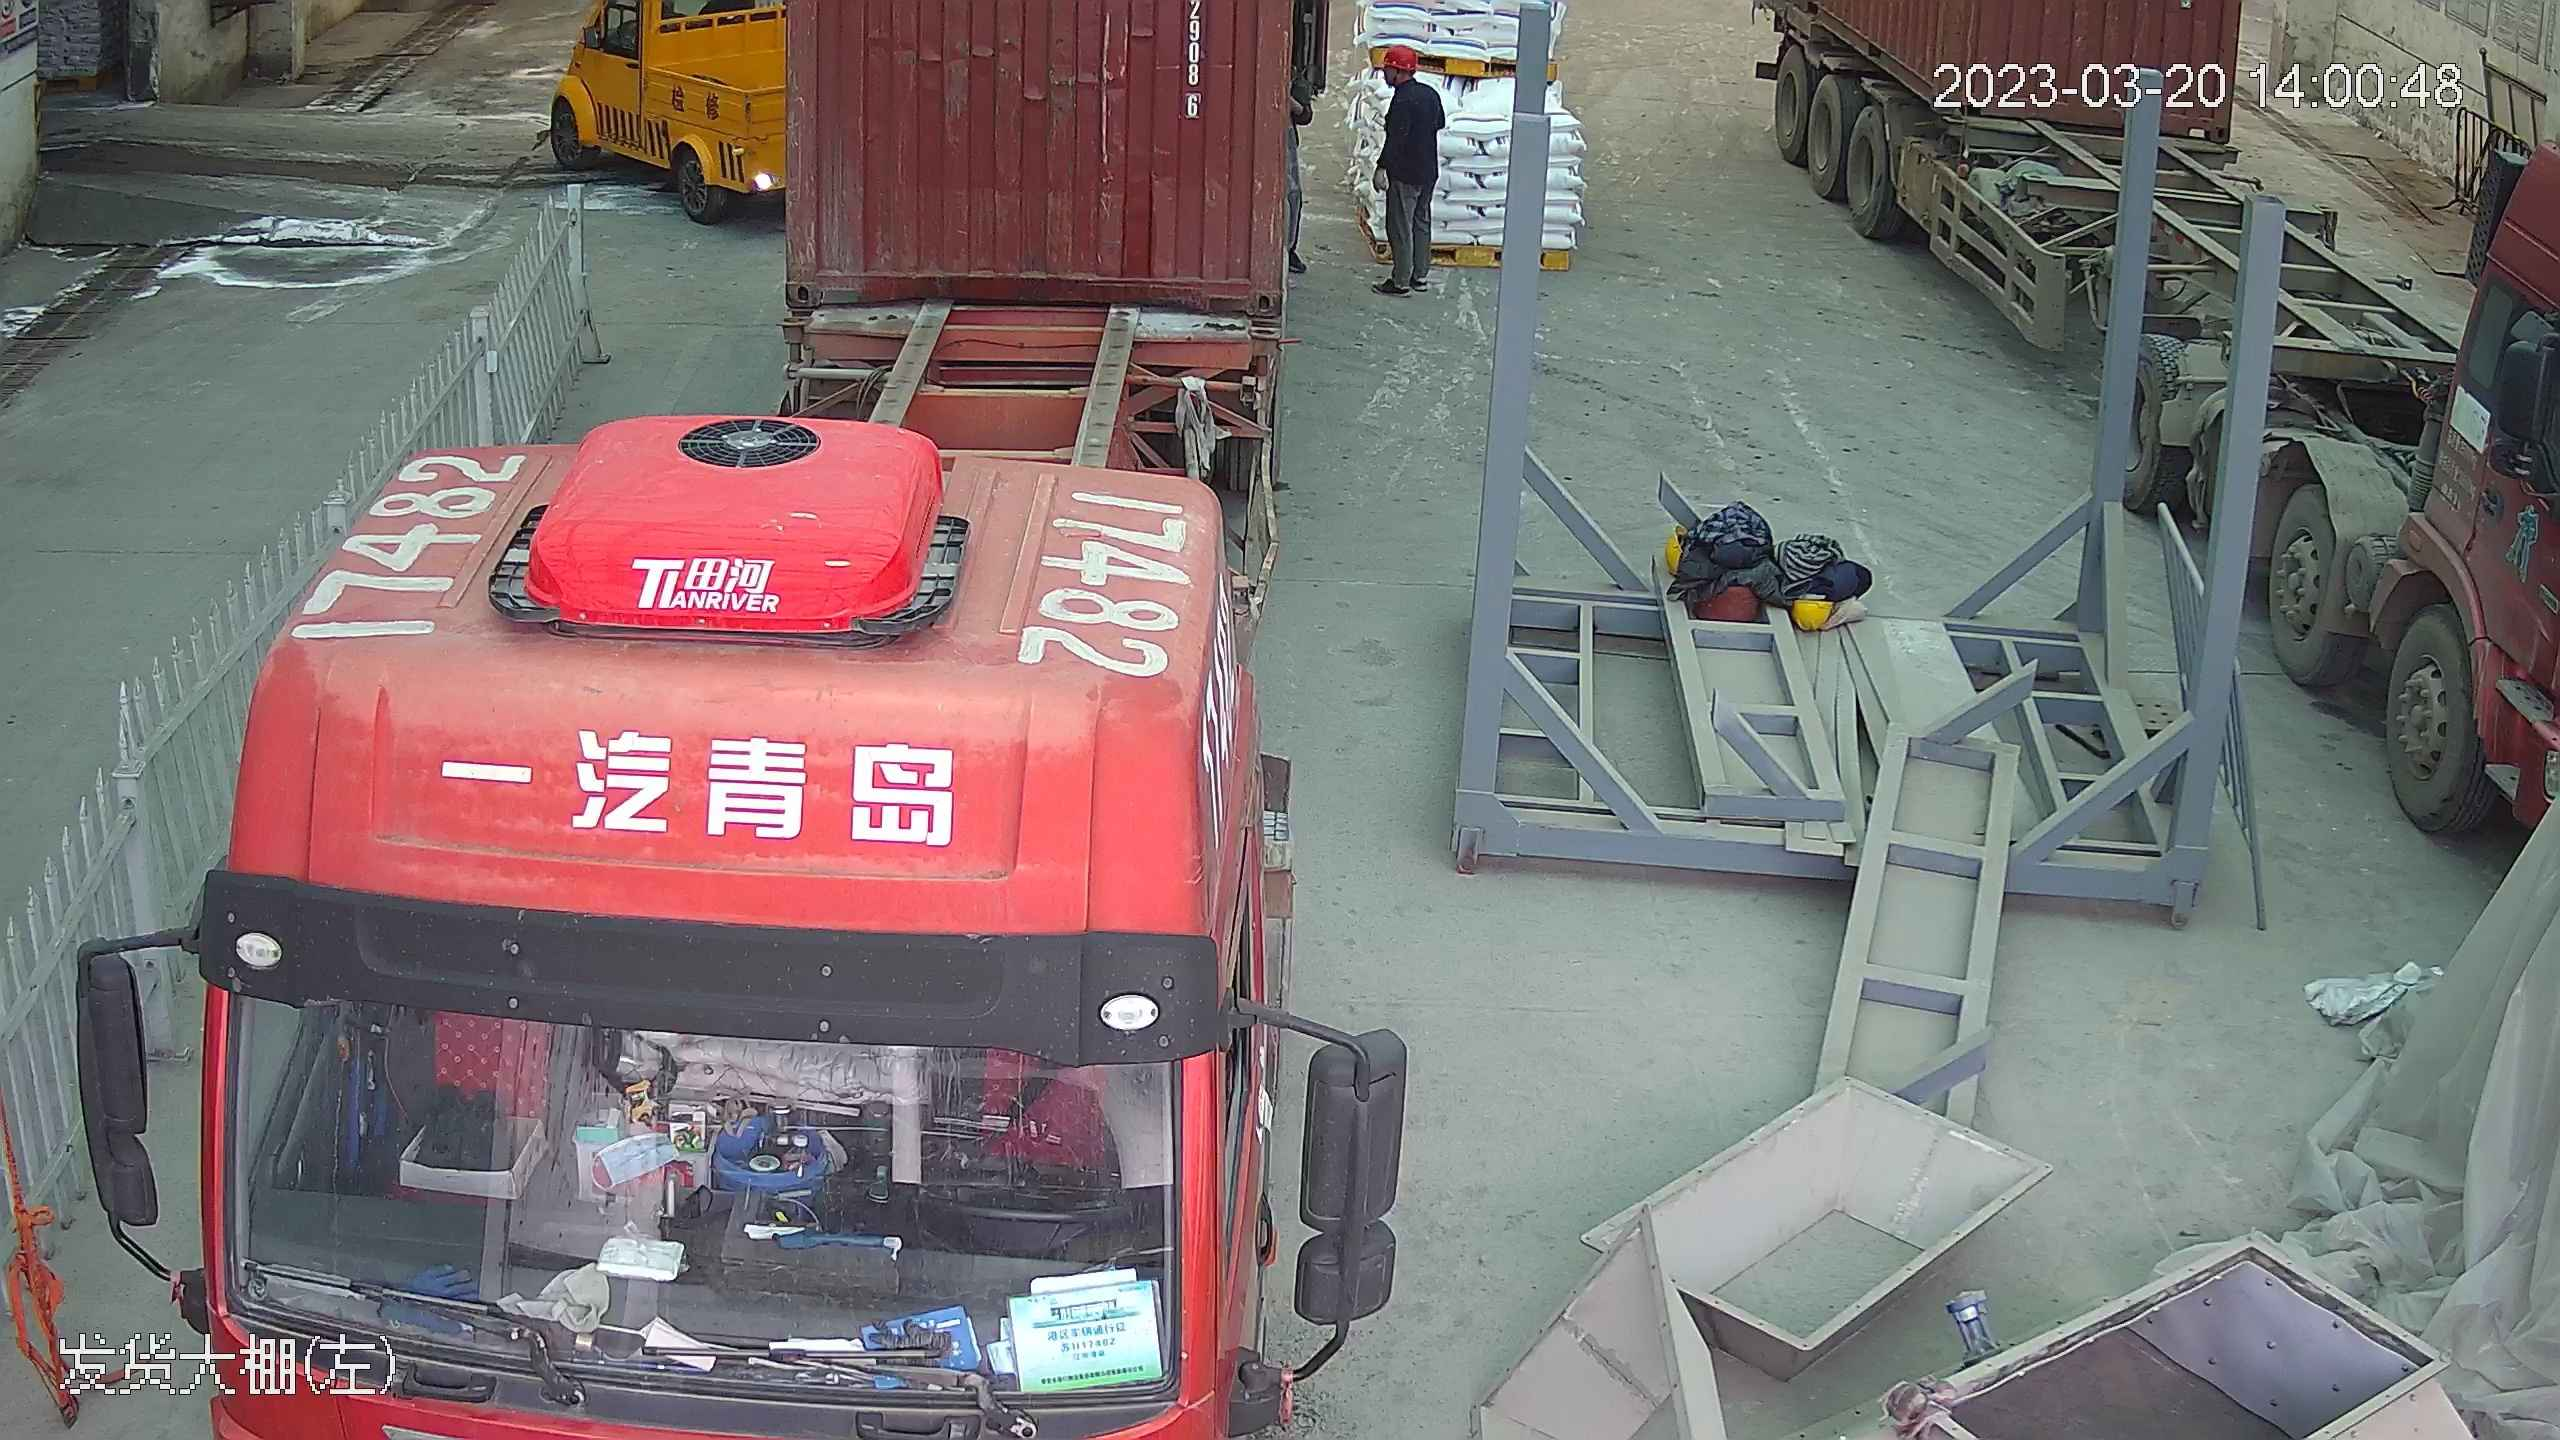head: (1381, 46, 1447, 120)
helmet: (1376, 45, 1412, 67)
people: (1363, 42, 1447, 297)
truck: (65, 0, 1304, 1440)
